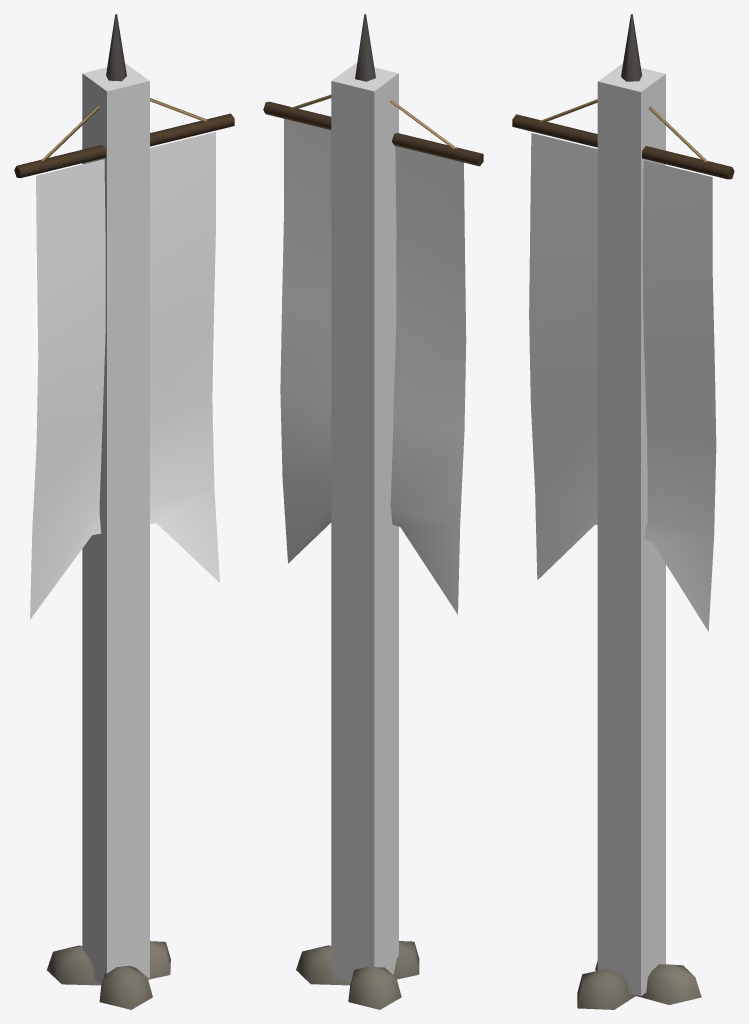
File: banner.glb
3 views of the same model, side by side, from view 1: azimuth 30°, elevation 25°; view 2: azimuth 150°, elevation 25°; view 3: azimuth 330°, elevation 25° (orthographic).
Visible parts, largest first — view 1: banner, COL_pole; view 2: COL_pole, banner; view 3: banner, COL_pole.
Part boxes in pixels (x1=…): banner: x1=14, y1=14, x2=234, y2=1009; COL_pole: x1=82, y1=63, x2=149, y2=984; COL_pole: x1=331, y1=63, x2=398, y2=982; banner: x1=263, y1=14, x2=483, y2=1009; banner: x1=512, y1=14, x2=734, y2=1009; COL_pole: x1=597, y1=63, x2=665, y2=996.
Bounding box in the file's own units: 1 × 4.31 × 0.5011.
